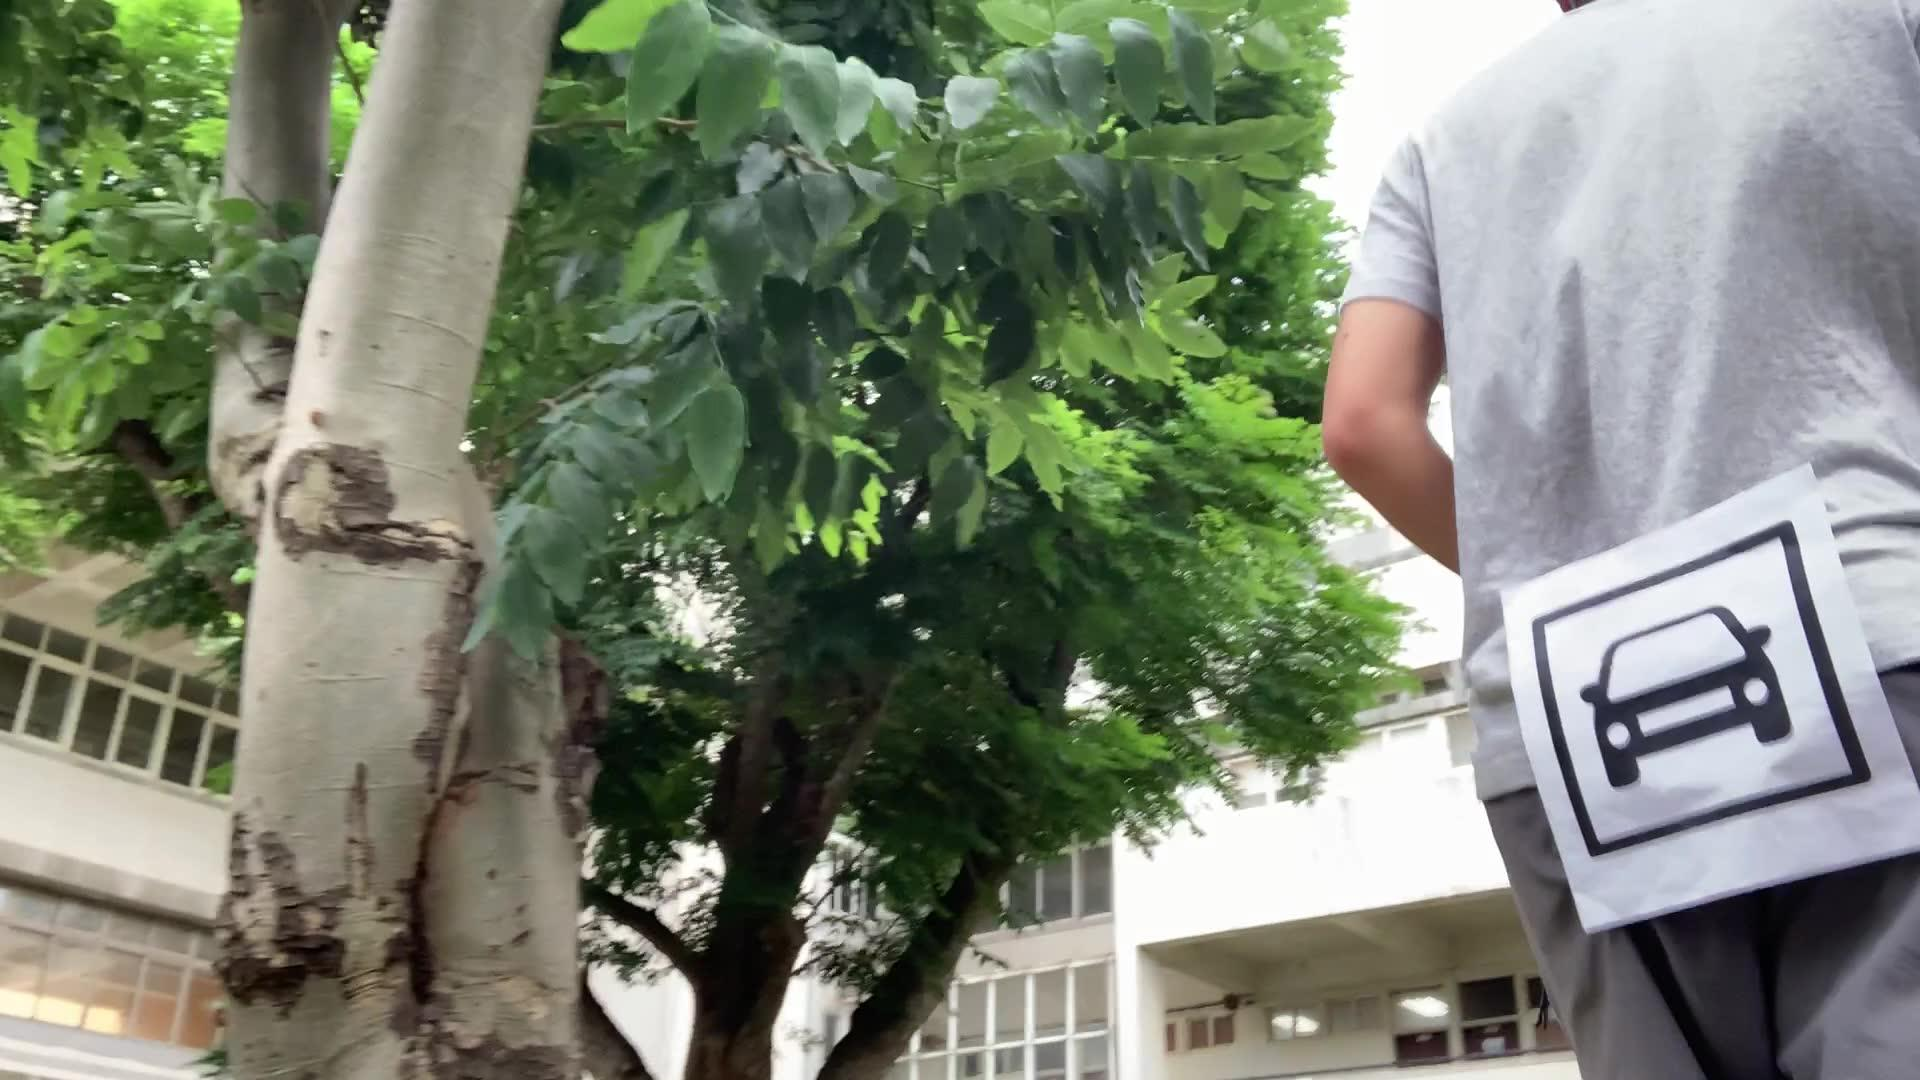car_img: (1531, 520, 1871, 857)
